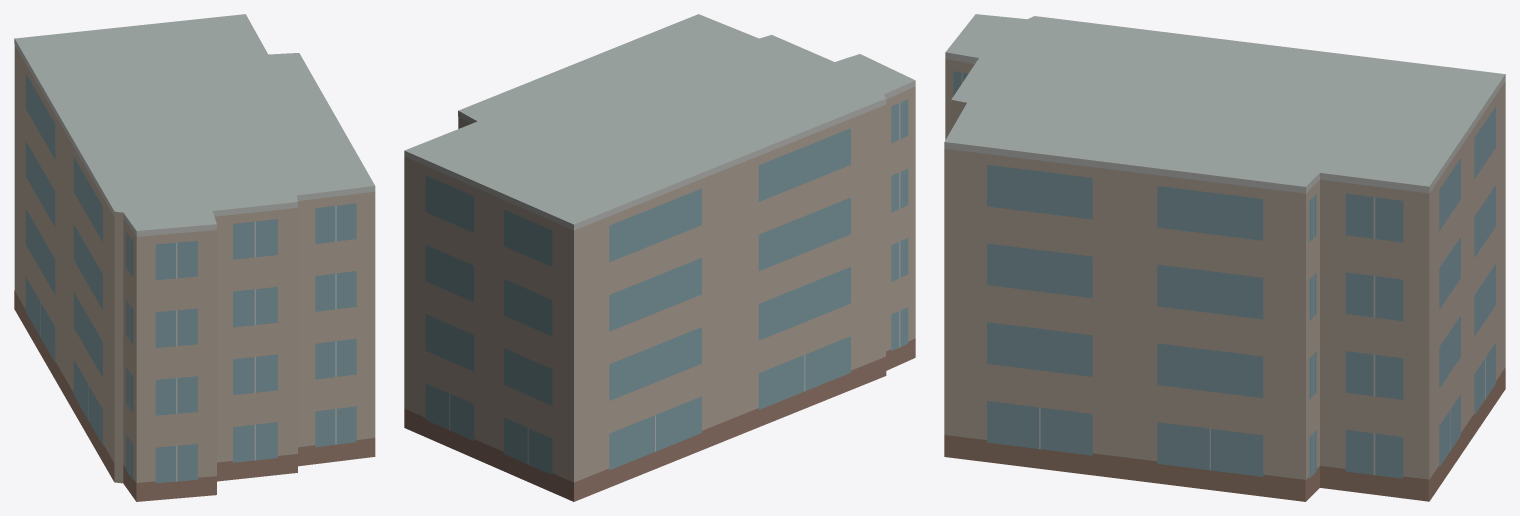
Rendered from survey-upis-32500790.glb.
3 views of the same model, side by side, from view 1: azimuth 30°, elevation 25°; view 2: azimuth 150°, elevation 25°; view 3: azimuth 270°, elevation 25° (orthographic). The views are drawn at different scales.
Visible parts, largest first — view 1: survey-upis-32500790.tmp; view 2: survey-upis-32500790.tmp; view 3: survey-upis-32500790.tmp.
Boxes of the visible parts, <box> form: survey-upis-32500790.tmp: <box>14,14,375,501</box>; survey-upis-32500790.tmp: <box>404,14,915,501</box>; survey-upis-32500790.tmp: <box>944,14,1505,501</box>.
Bounding box in the file's own units: 13.44 × 11.4 × 18.42.
